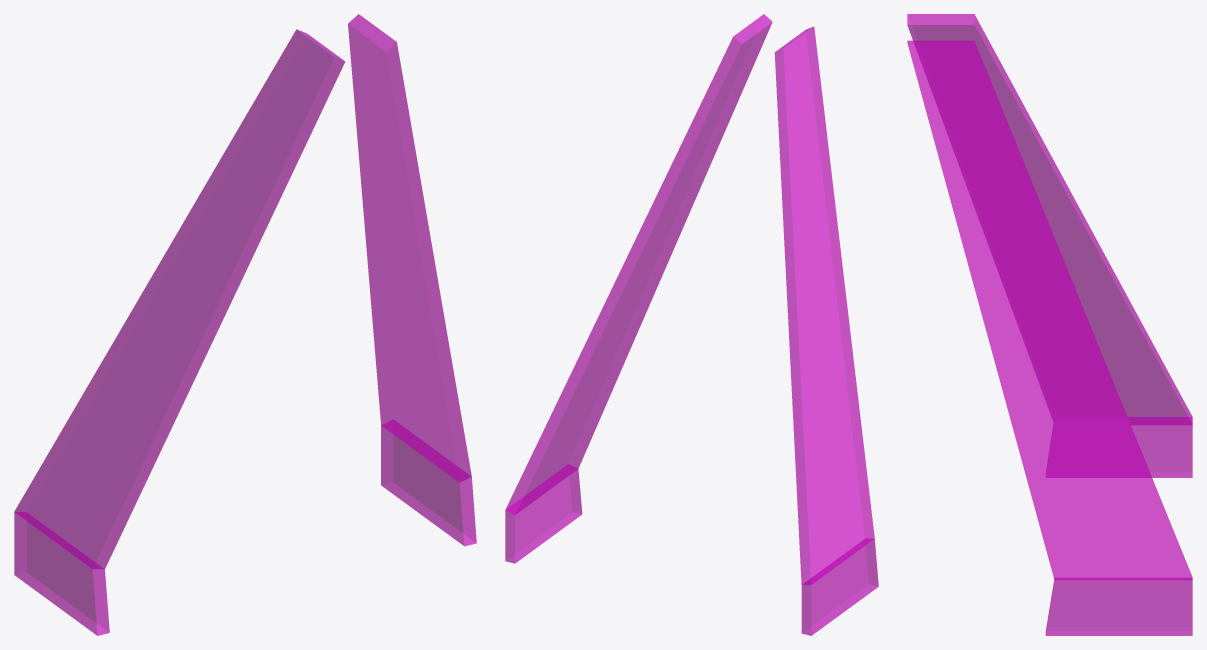
Rendered from SM_Veh_Ship_L_01_Ratlines_Middle_01_Collision.fbx.
3 renders of one model, left to right at view 1: azimuth 30°, elevation 25°; view 2: azimuth 150°, elevation 25°; view 3: azimuth 270°, elevation 25°, orthographic. The views are drawn at different scales.
Visible parts, largest first — view 1: SM_Veh_Ship_L_01_Ratlines_Middle_01_Collision; view 2: SM_Veh_Ship_L_01_Ratlines_Middle_01_Collision; view 3: SM_Veh_Ship_L_01_Ratlines_Middle_01_Collision.
Part boxes in pixels (x1,y1,x2,y2): SM_Veh_Ship_L_01_Ratlines_Middle_01_Collision: (14, 14, 476, 635); SM_Veh_Ship_L_01_Ratlines_Middle_01_Collision: (505, 14, 878, 635); SM_Veh_Ship_L_01_Ratlines_Middle_01_Collision: (907, 14, 1192, 635).
Bounding box in the file's own units: 1037 × 1561 × 767.
